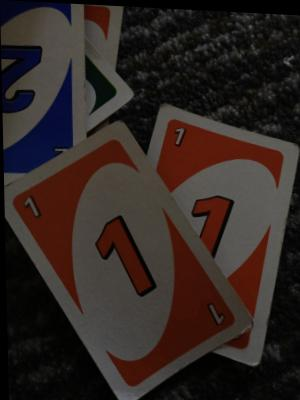num_2: (1, 36, 49, 123)
